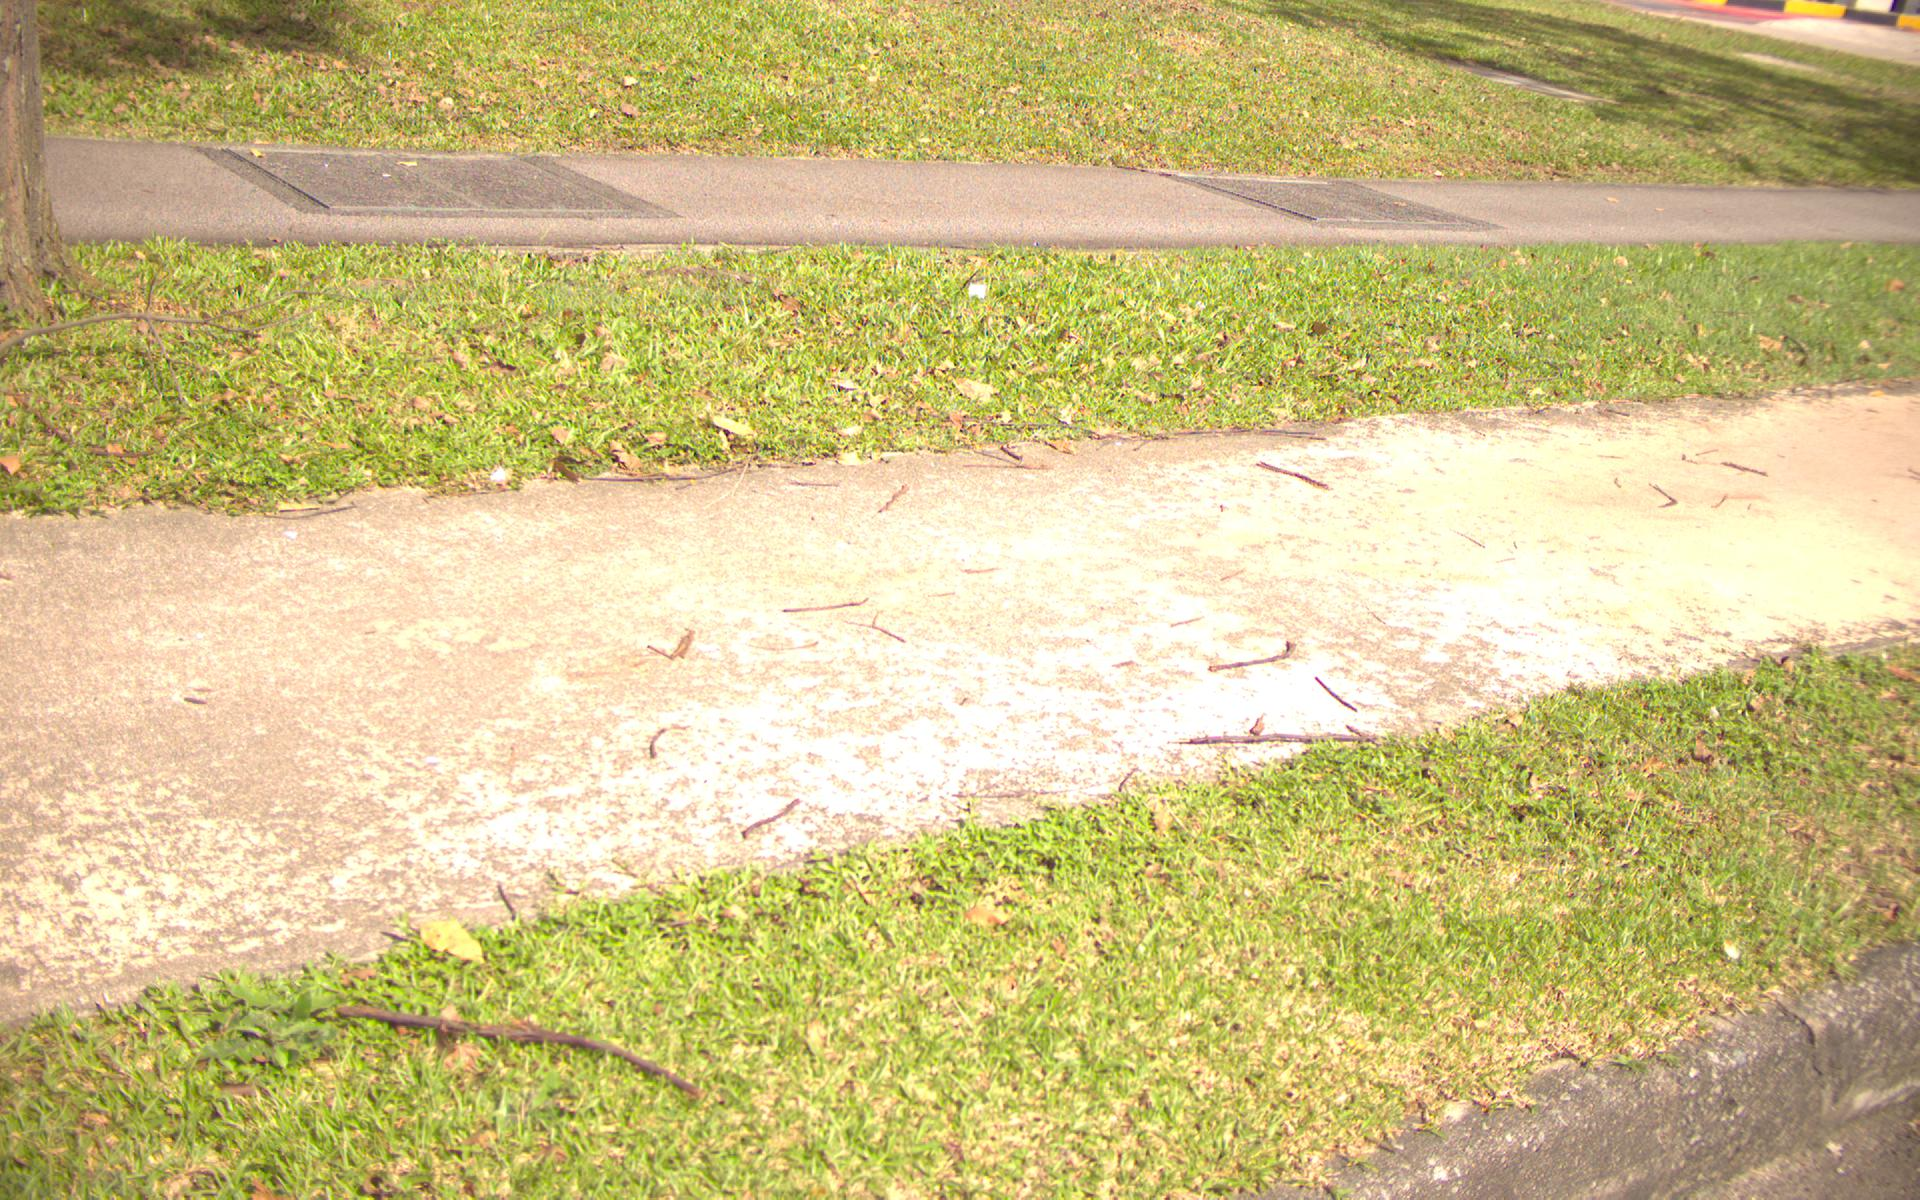pathway_low: (106, 510, 1678, 675), (64, 142, 840, 241)
road_turf_low: (270, 245, 1920, 379), (152, 6, 1602, 145), (523, 925, 1290, 1183)
